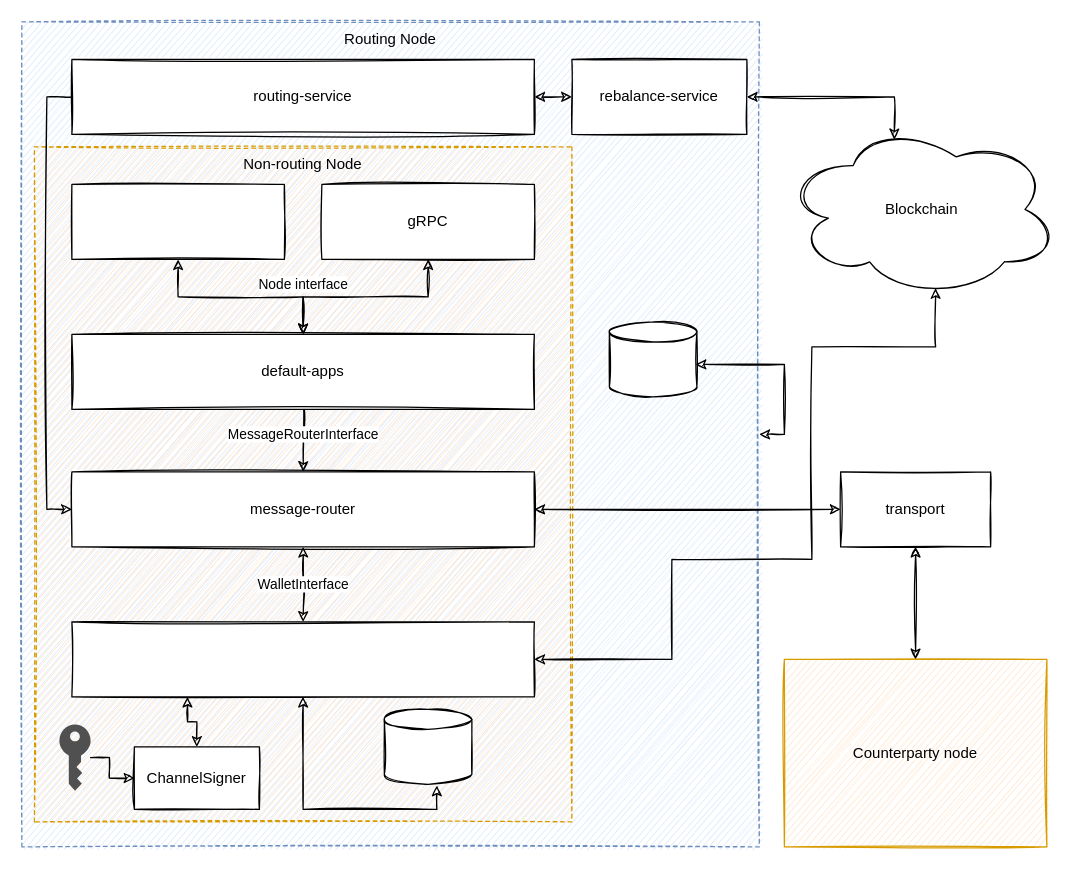
This 1081x869 diagram has some shape labels left out. Here are the shapes that lost their labels. From the top down, the centre of each, then its label:
At (177,221): "REST API".
At (652,359): "node-db".
At (302,659): "server-wallet".
At (74,757): "Private Key".
At (427,746): "sc-db".
